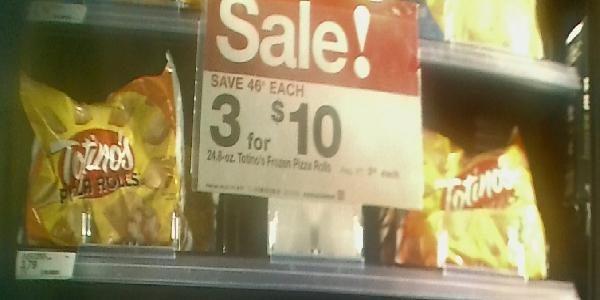icecream: (13, 52, 181, 255), (378, 92, 556, 278)
